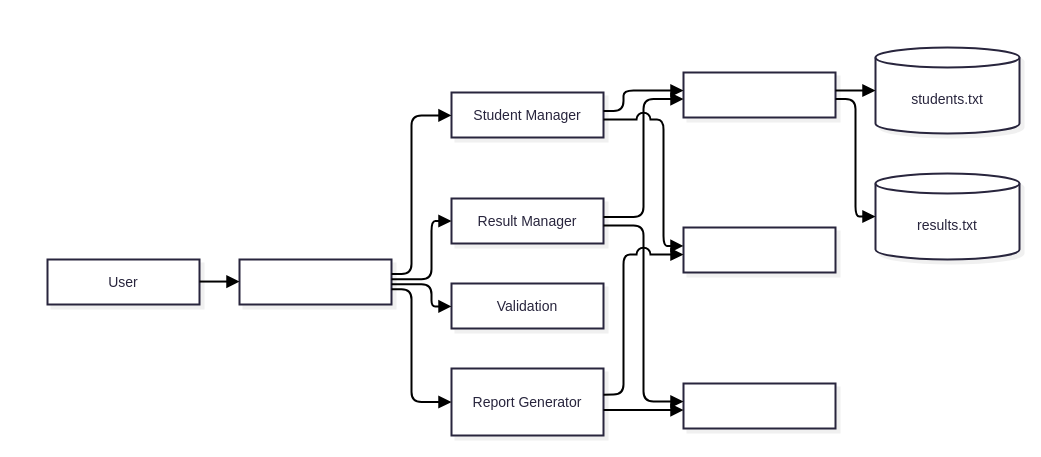
Image size: 1041x457. Some labels were removed from this diagram. Here are the shapes that lost their labels. From the top down, the centre of each, then its label:
At [761,96]: "File Manager".
At [761,251]: "Student".
At [317,283]: "Main Program".
At [761,407]: "Result".
